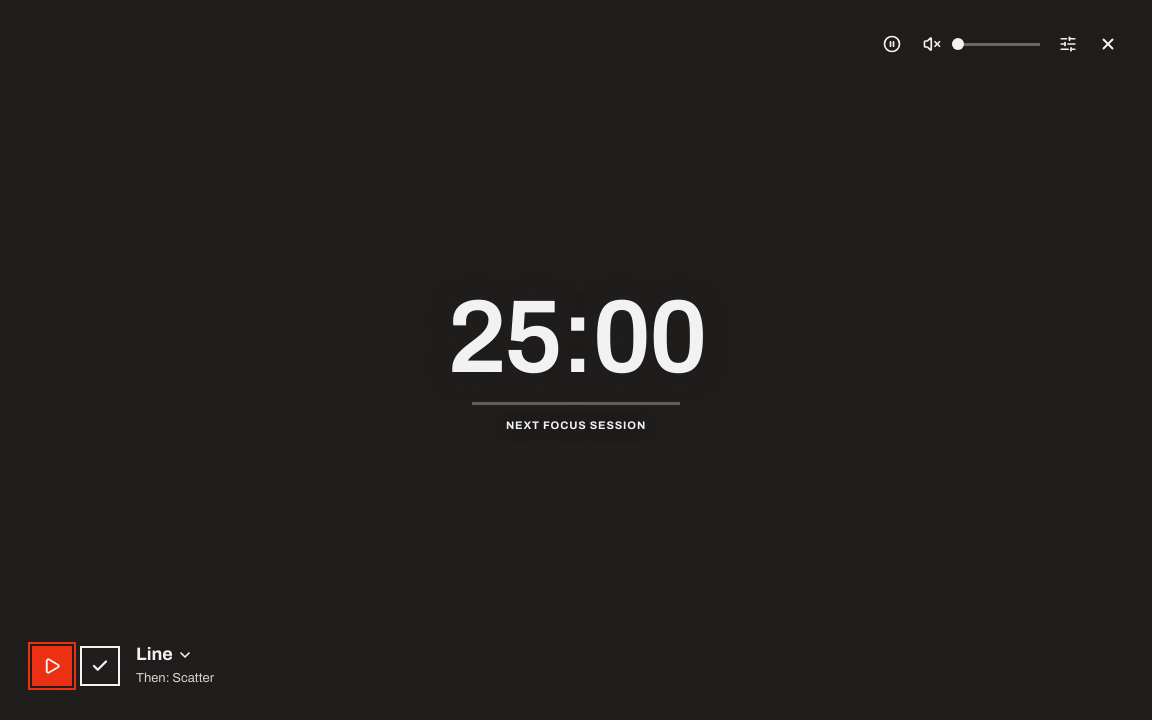
Test: FocusMode — waits for the video › pressing Start again while waiting cancels the wait
The image size is (1152, 720).
What coordinates should you click on to do the following:
click the button with class "fm-start"
I would click on:
 (52, 666)
Its box is [32,646,72,686].
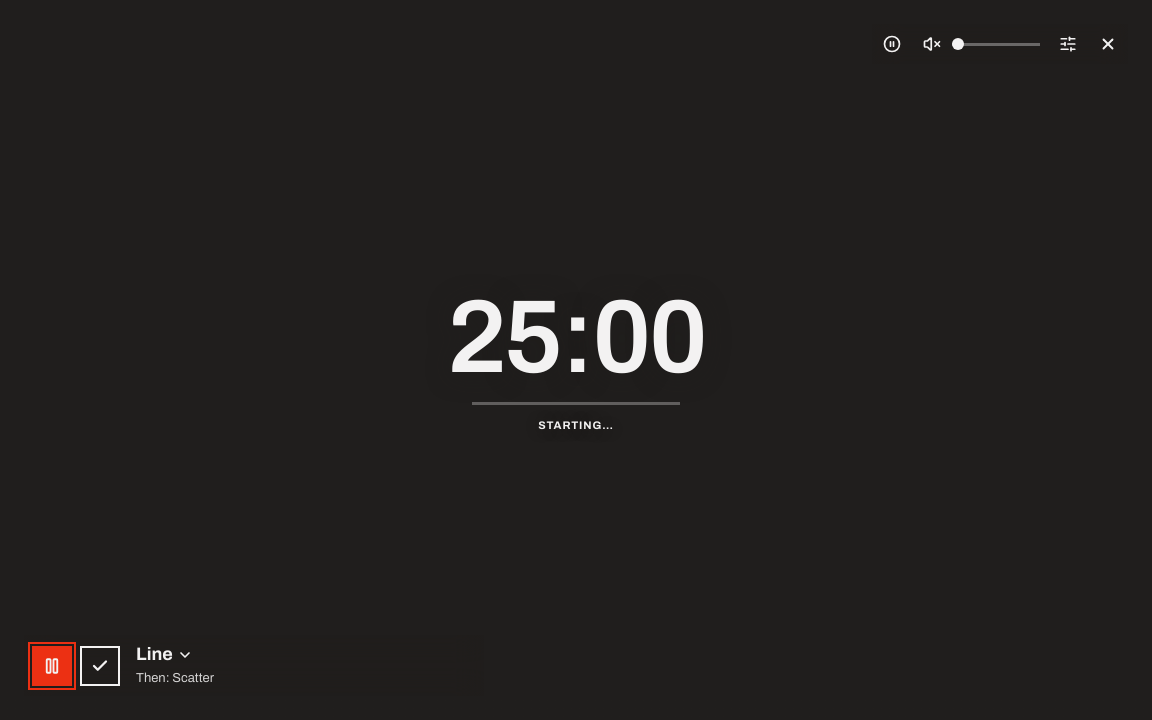
What coordinates should you click on to do the following:
click the button with class "fm-start"
I would click on:
 (52, 666)
Its box is [32,646,72,686].
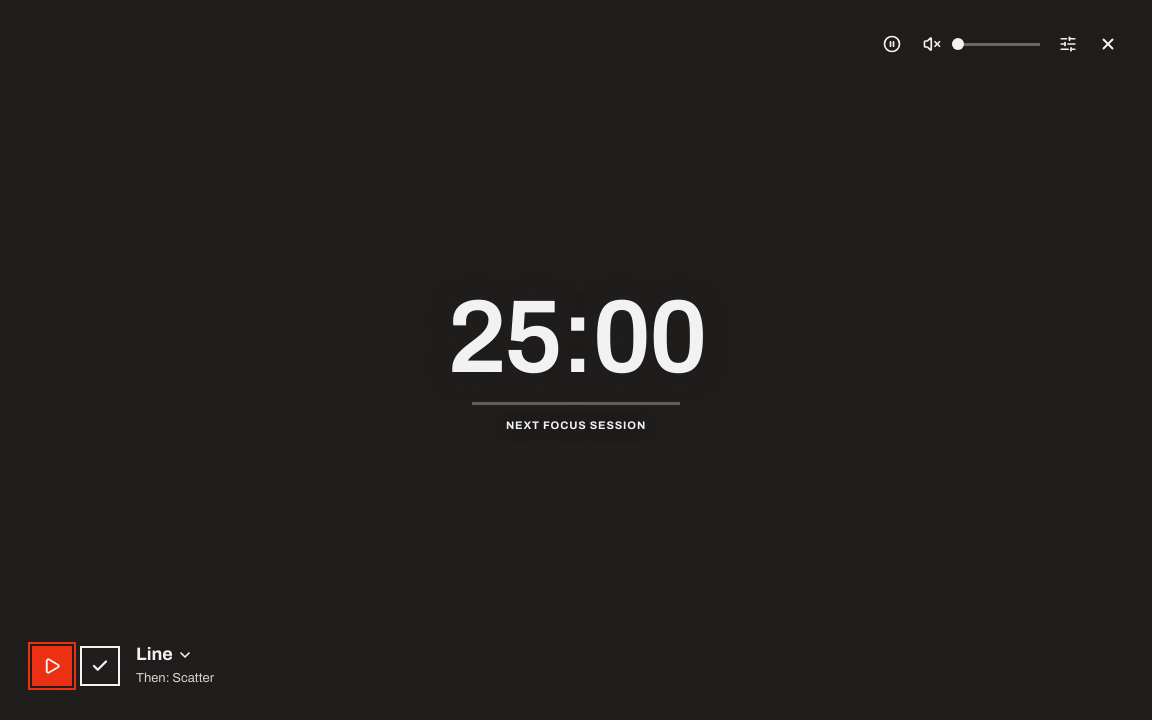
Expected: the text with class "fm-phase" reads "Next focus session", [506,419,646,431]
